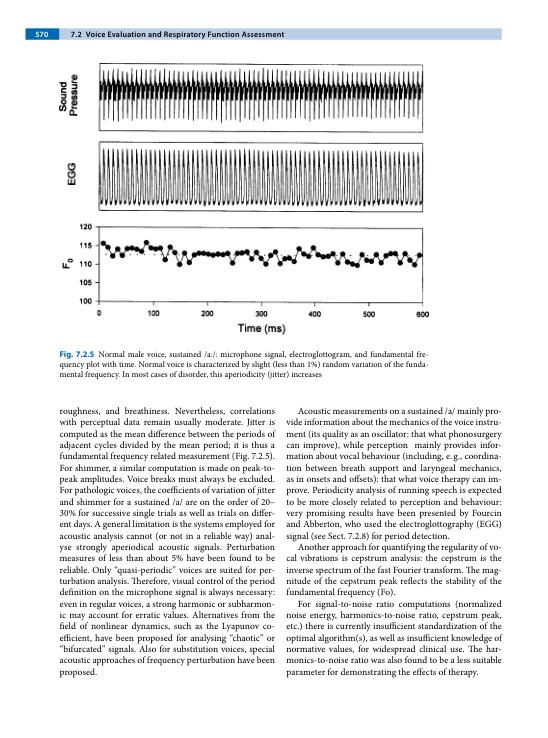caption: (58, 349, 430, 380)
header: (85, 30, 285, 40)
image: (55, 55, 438, 344)
text: (57, 404, 277, 681), (283, 405, 504, 680)
